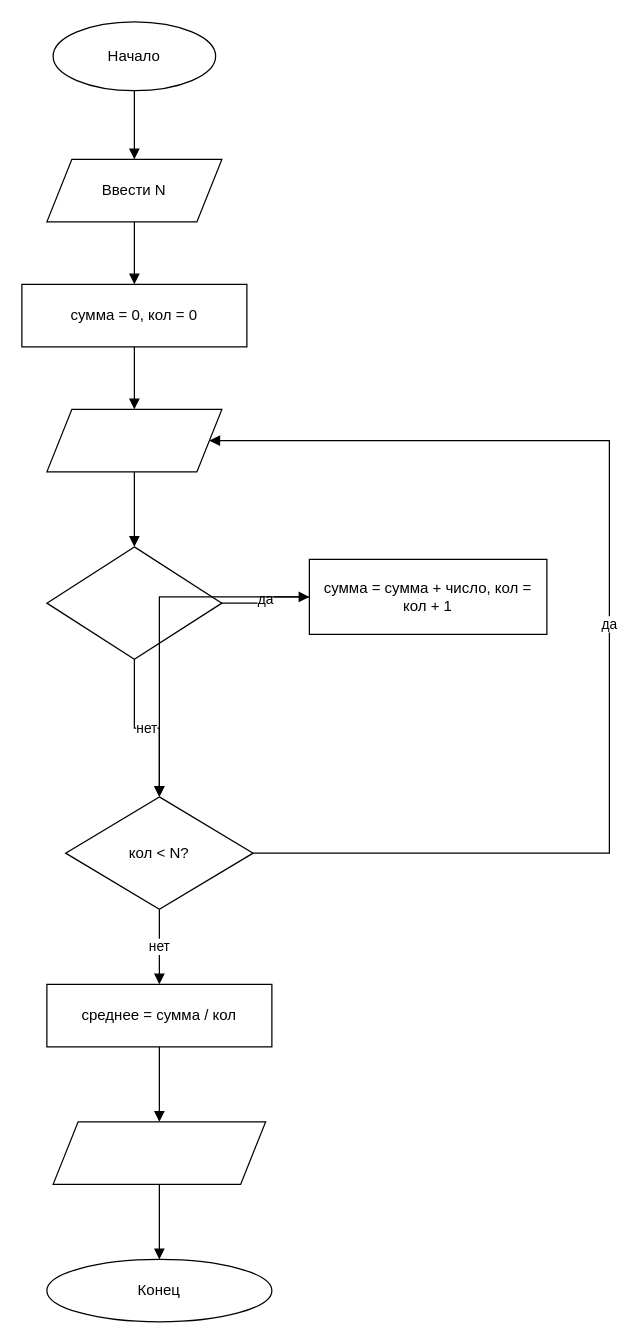
This 641x1344 diagram has some shape labels left out. Each missing label, with the box of its shape:
Ввести число: (46, 408, 222, 472)
Вывести среднее: (52, 1121, 266, 1184)
Число > 0?: (46, 546, 222, 659)
